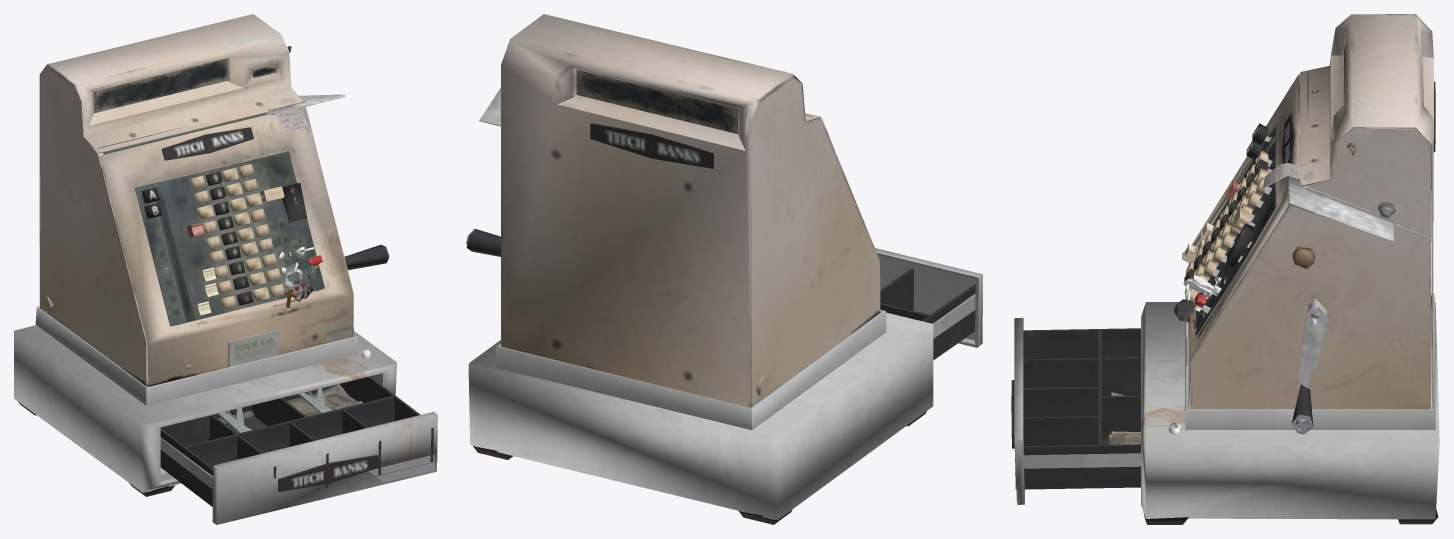
3 views of the same model, side by side, from view 1: azimuth 30°, elevation 25°; view 2: azimuth 150°, elevation 25°; view 3: azimuth 270°, elevation 25° (orthographic). The views are drawn at different scales.
Visible parts, largest first — view 1: CashRegister_01_body, CashRegister_011_drawer; view 2: CashRegister_01_body, CashRegister_011_drawer; view 3: CashRegister_01_body, CashRegister_011_drawer.
Boxes of the visible parts, x1,y1,x2,y2 form: CashRegister_01_body: [14, 14, 396, 496]; CashRegister_011_drawer: [160, 376, 437, 524]; CashRegister_01_body: [466, 14, 933, 524]; CashRegister_011_drawer: [875, 248, 982, 360]; CashRegister_01_body: [1141, 14, 1439, 524]; CashRegister_011_drawer: [1011, 317, 1140, 504].
Size of the model in its own units: 0.5941 by 0.6197 by 0.6227.
Materials: 2 (2 with a texture image).
